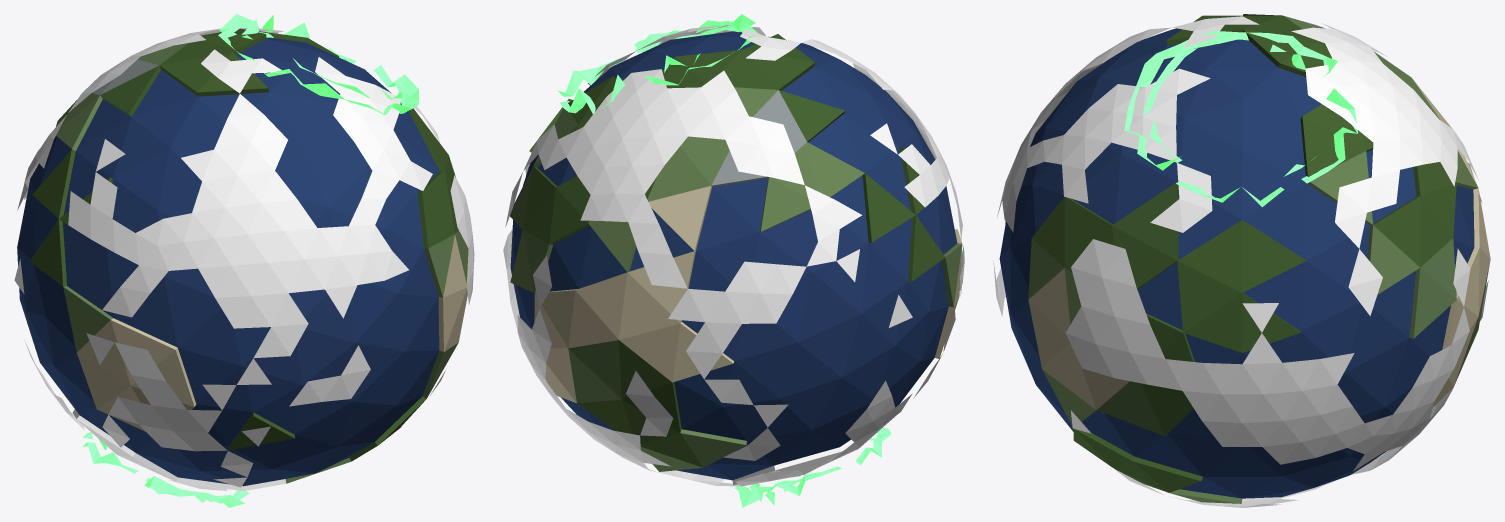
File: earth.glb
3 views of the same model, side by side, from view 1: azimuth 30°, elevation 25°; view 2: azimuth 150°, elevation 25°; view 3: azimuth 270°, elevation 25° (orthographic). The views are drawn at different scales.
Parts seen in each view (by area): view 1: earth, earth_clouds, eath_aurora; view 2: earth, earth_clouds, eath_aurora; view 3: earth, earth_clouds, eath_aurora.
Boxes of the visible parts, <box> form: earth: <box>17,28,468,491</box>; earth_clouds: <box>14,27,474,490</box>; eath_aurora: <box>82,14,418,507</box>; earth: <box>510,31,962,485</box>; earth_clouds: <box>503,25,964,486</box>; eath_aurora: <box>557,14,891,507</box>; earth: <box>999,14,1490,503</box>; earth_clouds: <box>993,16,1488,507</box>; eath_aurora: <box>1124,31,1358,207</box>.
Size of the model in its own units: 2.24 by 2.31 by 2.25.
1 material, 1 textured.
